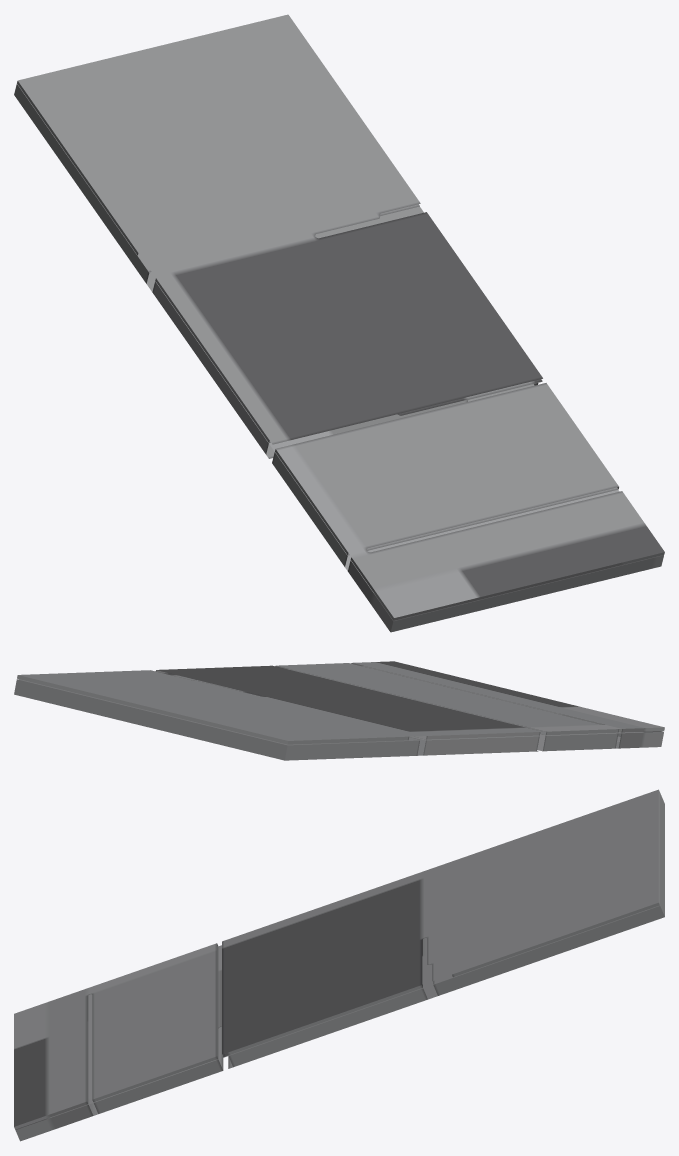
3 renders of one model, top to bottom at view 1: azimuth 30°, elevation 25°; view 2: azimuth 150°, elevation 25°; view 3: azimuth 270°, elevation 25°, orthographic. The views are drawn at different scales.
Bounding box in the file's own units: 1 × 0.9845 × 2.43.
